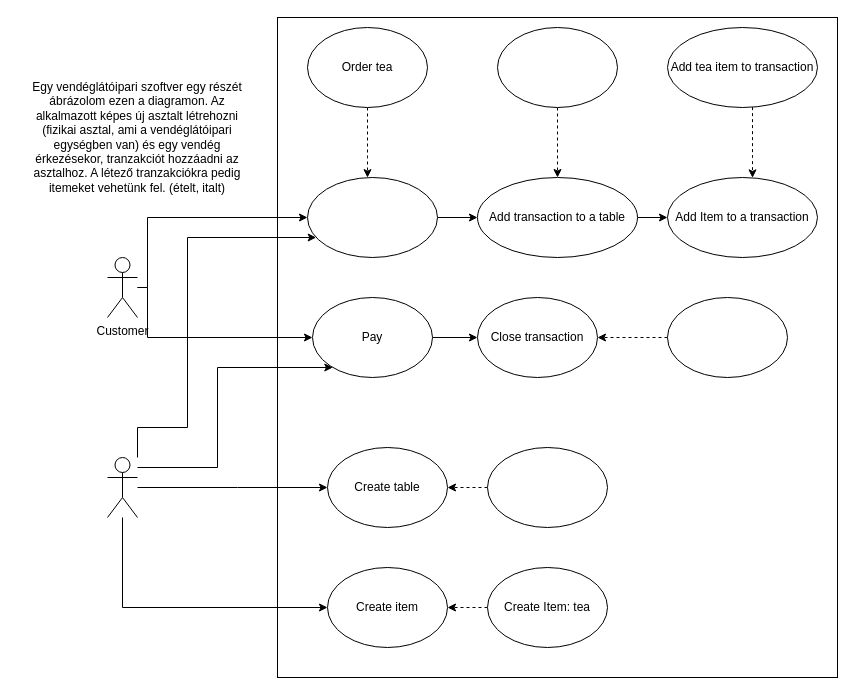
Some shapes in this 855 by 695 pixel diagram are drawn without their labels. The centre of each missing label's shape, as x and y in pixels:
"Add transaction to outside table1" belongs at point 557,67.
"Close transaction of outside table1" belongs at point 727,337.
"Create table: outside table1" belongs at point 547,487.
"Order" belongs at point 372,217.
"Waiter" belongs at point 122,487.
